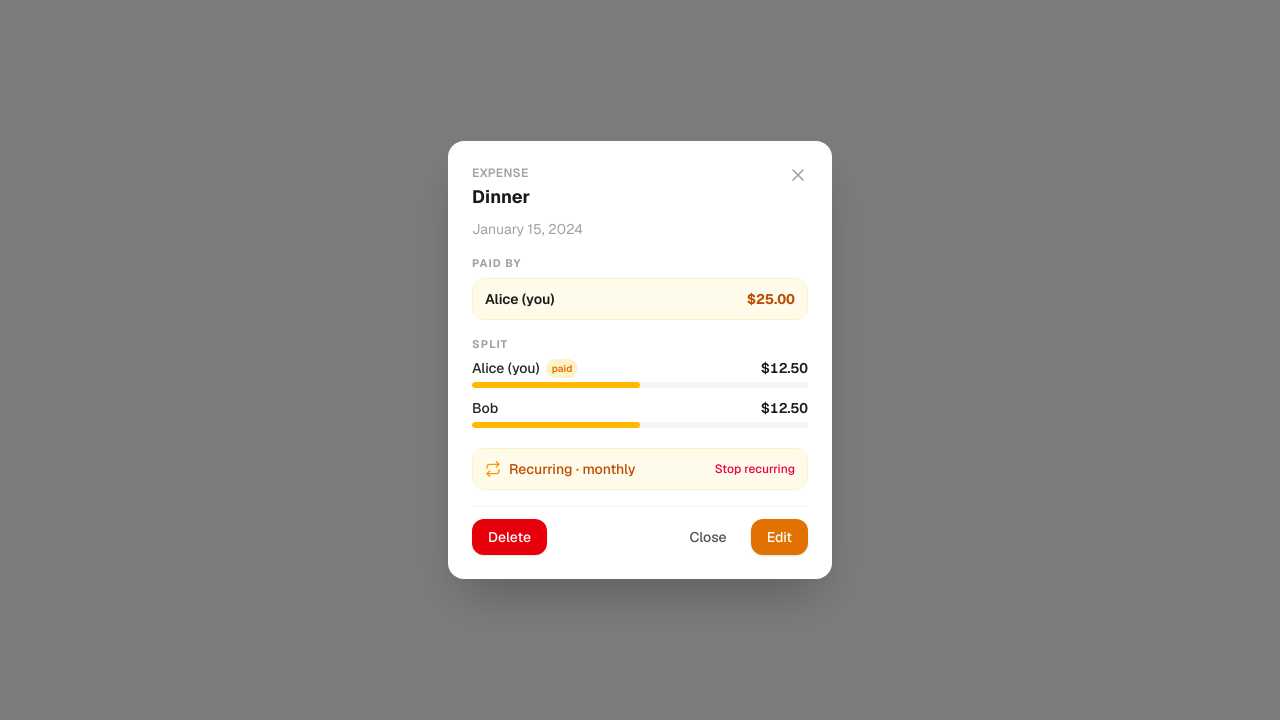
Test case: ExpenseDetailModal — Stop recurring › shows error message and does NOT close the modal when the server returns an error
The width and height of the screenshot is (1280, 720).
Click the button "Stop recurring". click: (755, 469)
box: [715,461,795,477]
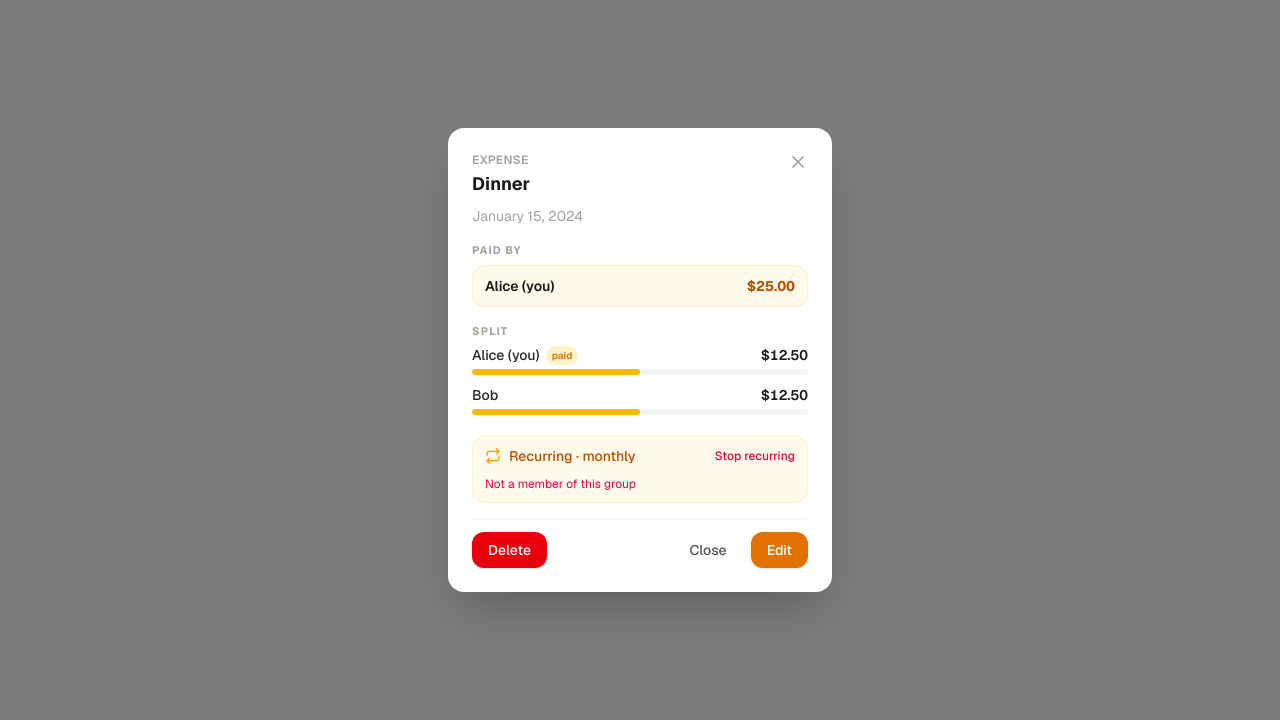
Now the text "Not a member of this group" is shown, box [485,476,636,492]
